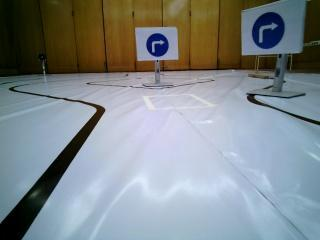right: (241, 10, 302, 56), (135, 27, 176, 59)
